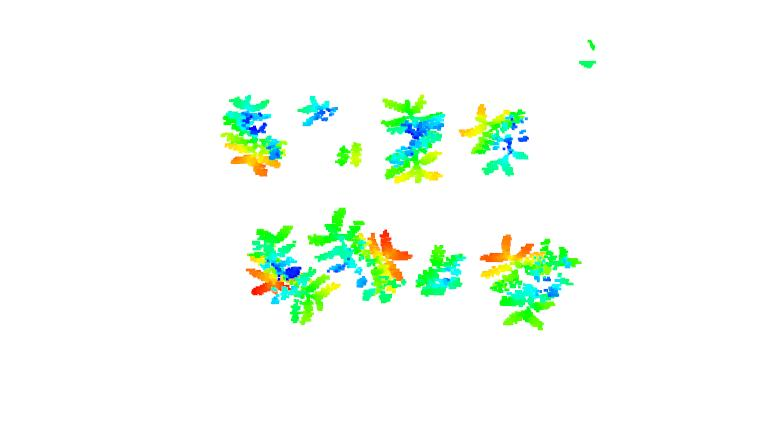chickpea: (306, 208, 413, 305), (245, 223, 340, 325), (483, 234, 581, 329), (457, 101, 532, 179), (221, 93, 289, 176), (381, 95, 442, 185), (294, 93, 363, 168), (411, 243, 467, 299)
